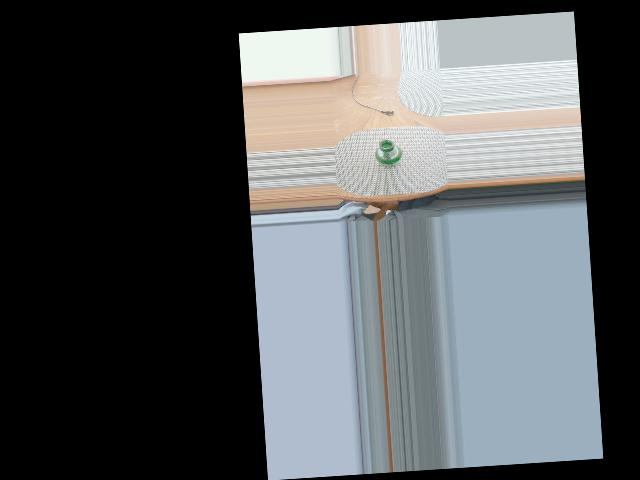beer: (375, 139, 402, 168)
